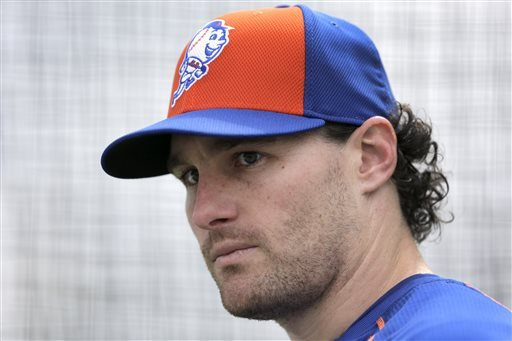bare: (182, 194, 344, 313)
